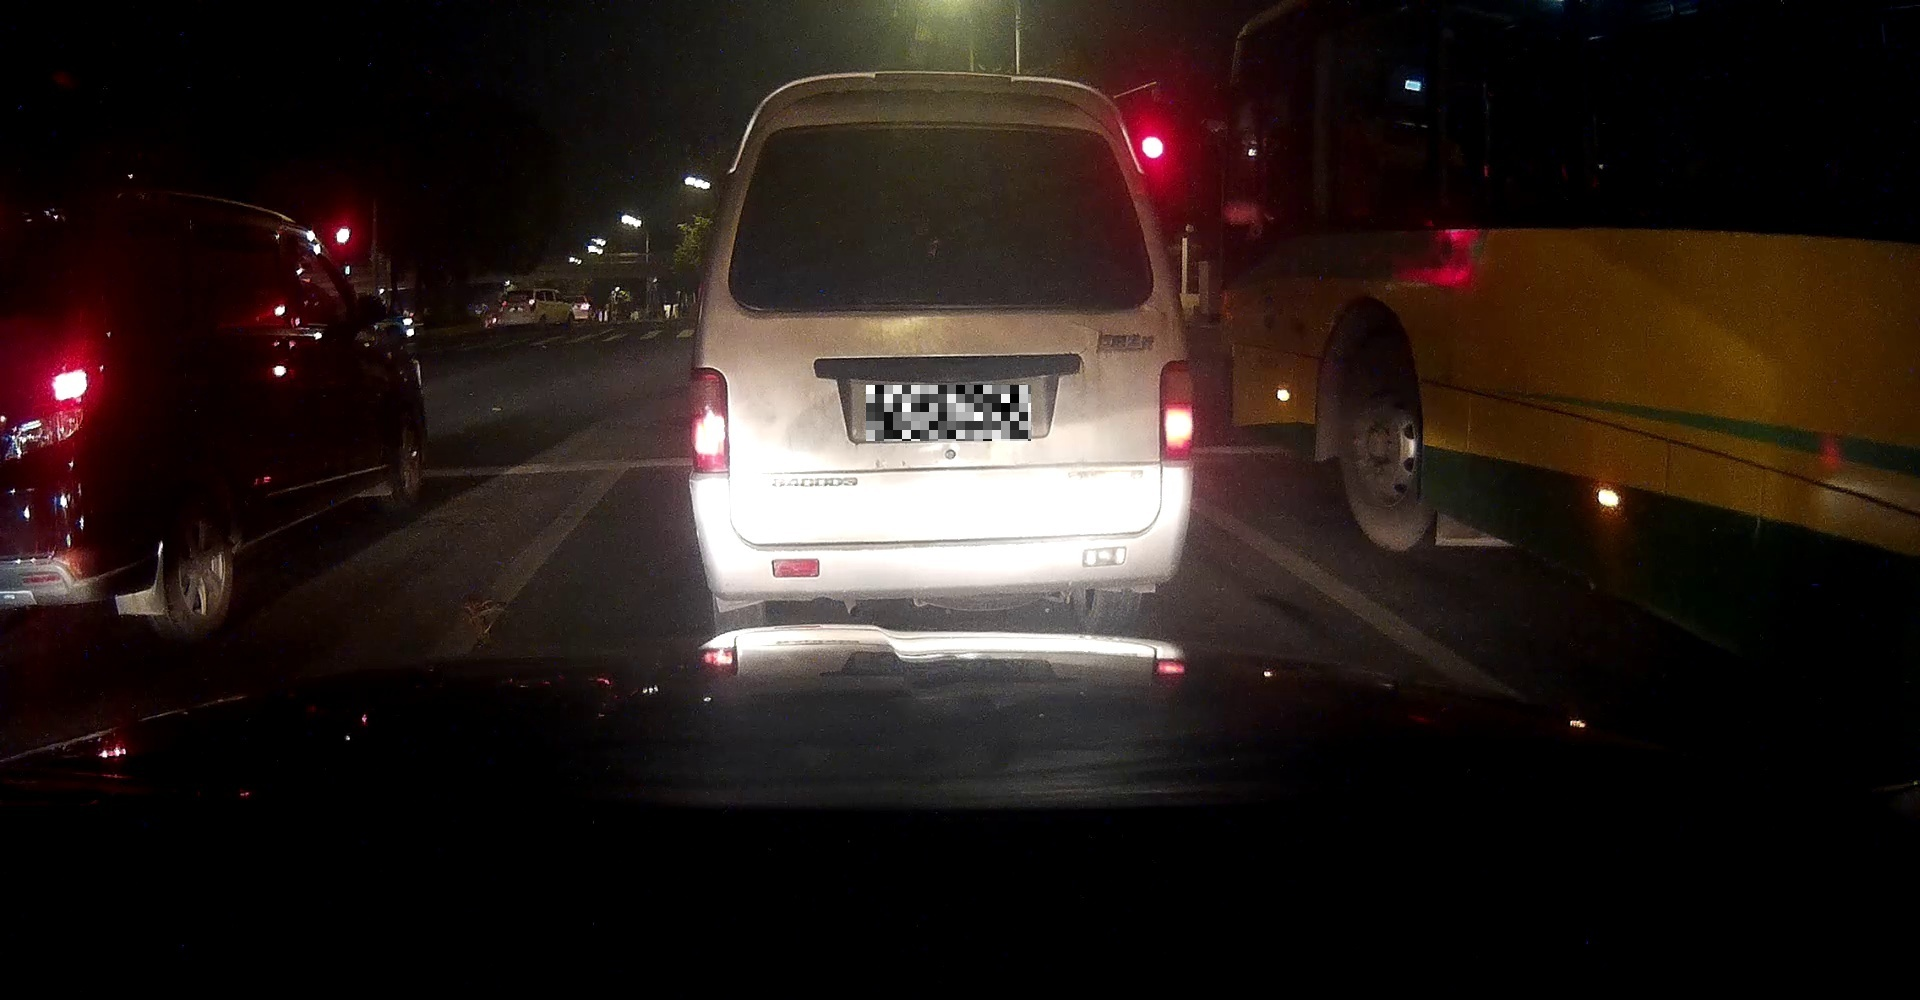L_light: (690, 367, 730, 476)
R_light: (1158, 359, 1197, 464)
T_light: (914, 118, 978, 129)
night-no: (691, 67, 1206, 638)
plate_1: (866, 385, 1031, 442)
